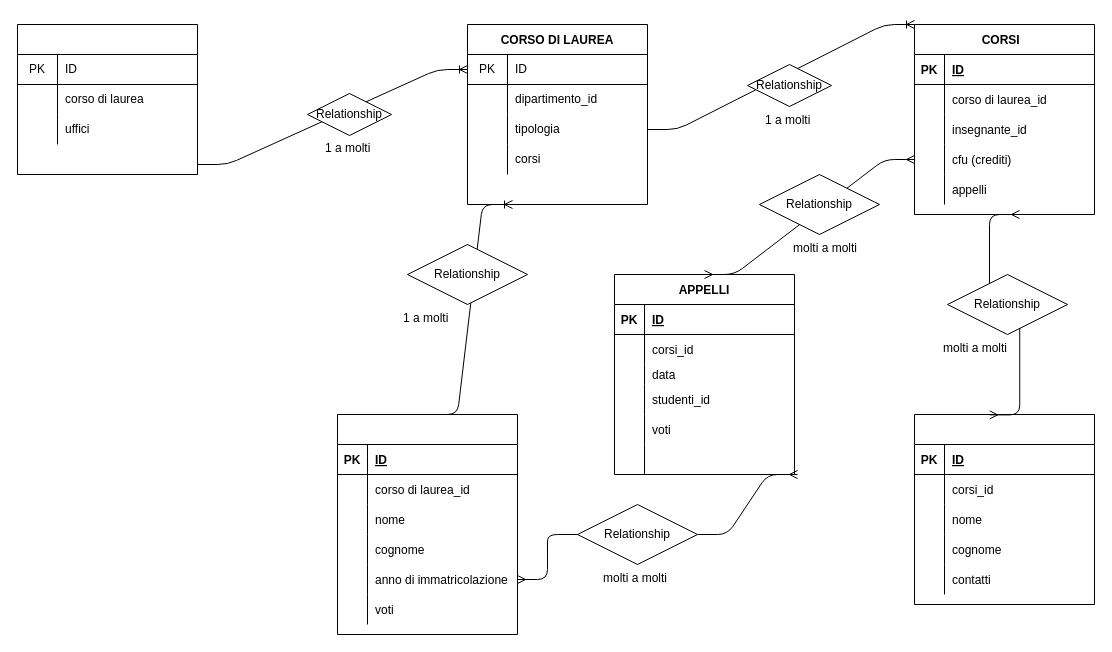
The diagram is 1112 pixels wide and 652 high, and some of its shapes have lost their labels. Each missing label, with the box of its shape:
Dipartimento: (16, 24, 198, 174)
INSEGNANTE: (914, 414, 1094, 604)
STUDENTI: (336, 414, 518, 634)
